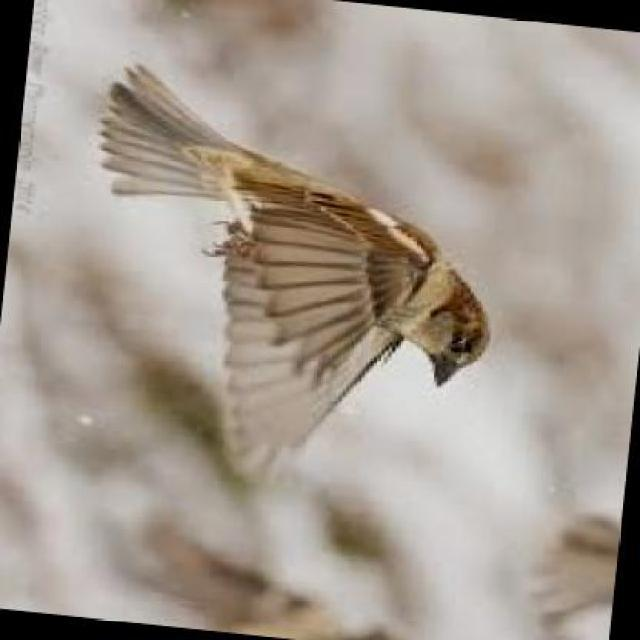Bird: (99, 40, 493, 467)
